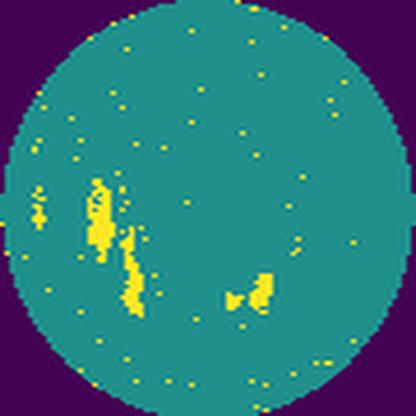Loc: (85, 178, 145, 318), (225, 271, 275, 315)
